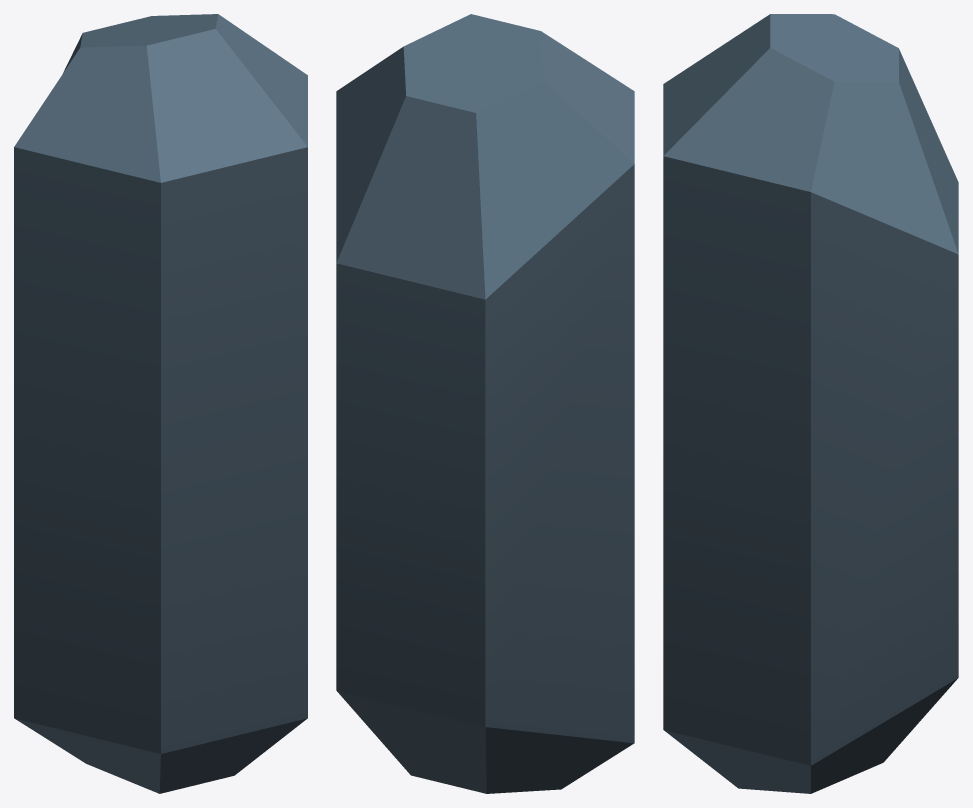
The model's file is geology-crystals-calcitecrystal_v12.glb.
3 renders of one model, left to right at view 1: azimuth 30°, elevation 25°; view 2: azimuth 150°, elevation 25°; view 3: azimuth 270°, elevation 25°, orthographic.
Parts seen in each view (by area): view 1: CalciteCrystal_v12; view 2: CalciteCrystal_v12; view 3: CalciteCrystal_v12.
Boxes of the visible parts, left/top/right/bottom form: CalciteCrystal_v12: left=14, top=14, right=307, bottom=793; CalciteCrystal_v12: left=336, top=14, right=634, bottom=793; CalciteCrystal_v12: left=663, top=14, right=958, bottom=793.
Bounding box in the file's own units: 1.39 × 3.33 × 1.21.
